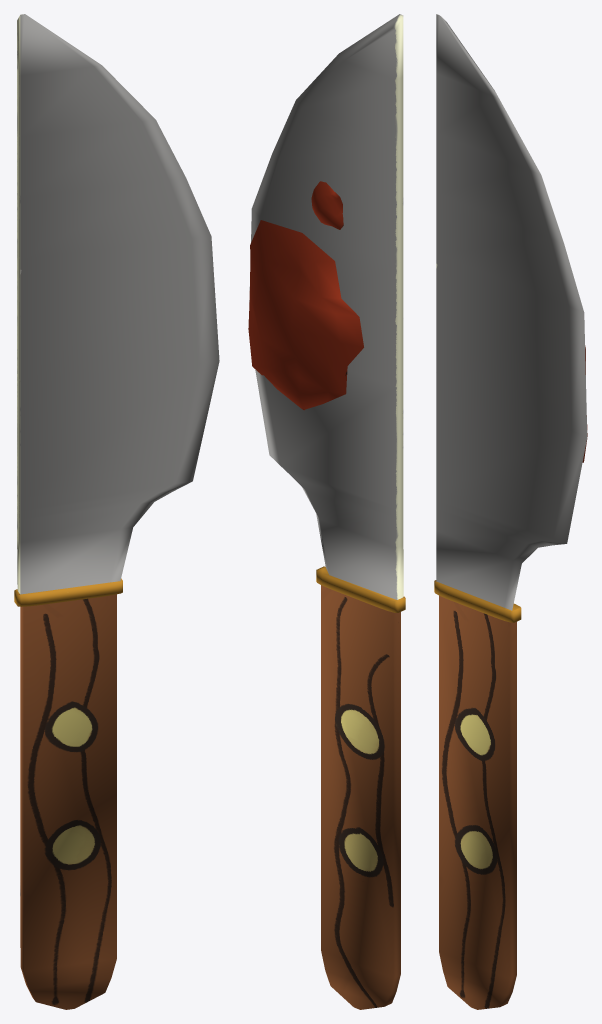
File: ClueKnife.fbx
The picture shows the model from 3 angles, left to right: view 1: azimuth 30°, elevation 25°; view 2: azimuth 150°, elevation 25°; view 3: azimuth 330°, elevation 25°; orthographic projection. The views are drawn at different scales.
Parts seen in each view (by area): view 1: Cube.014; view 2: Cube.014; view 3: Cube.014.
Boxes of the visible parts, <box> form: Cube.014: <box>14,14,219,1009</box>; Cube.014: <box>248,14,405,1009</box>; Cube.014: <box>434,14,587,1009</box>.
Size of the model in its own units: 35.76 by 191 by 9.93.
